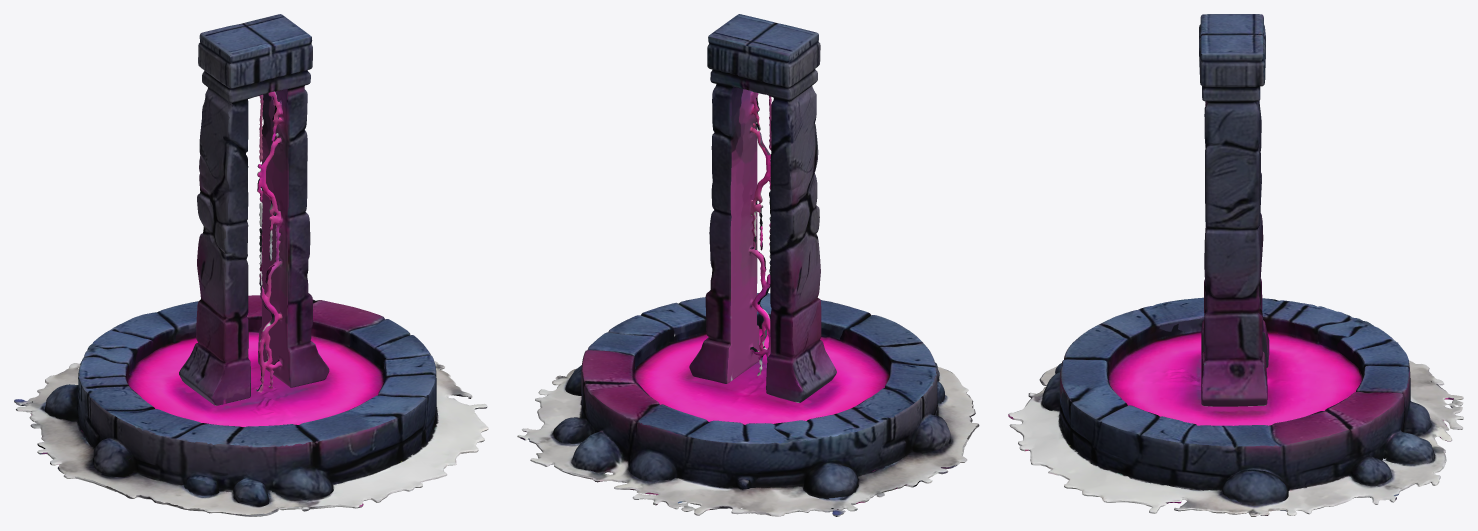
File: support-column-generated-2026-05-17T18-42-32-113Z.high.glb
3 renders of one model, left to right at view 1: azimuth 30°, elevation 25°; view 2: azimuth 150°, elevation 25°; view 3: azimuth 270°, elevation 25°, orthographic.
Parts seen in each view (by area): view 1: temp_mesh.ply; view 2: temp_mesh.ply; view 3: temp_mesh.ply.
Boxes of the visible parts, x1,y1,x2,y2 form: temp_mesh.ply: (14,14,488,516); temp_mesh.ply: (517,14,979,516); temp_mesh.ply: (1008,14,1463,516).
Size of the model in its own units: 1.97 by 1.86 by 1.97.
Materials: 1 (1 with a texture image).
